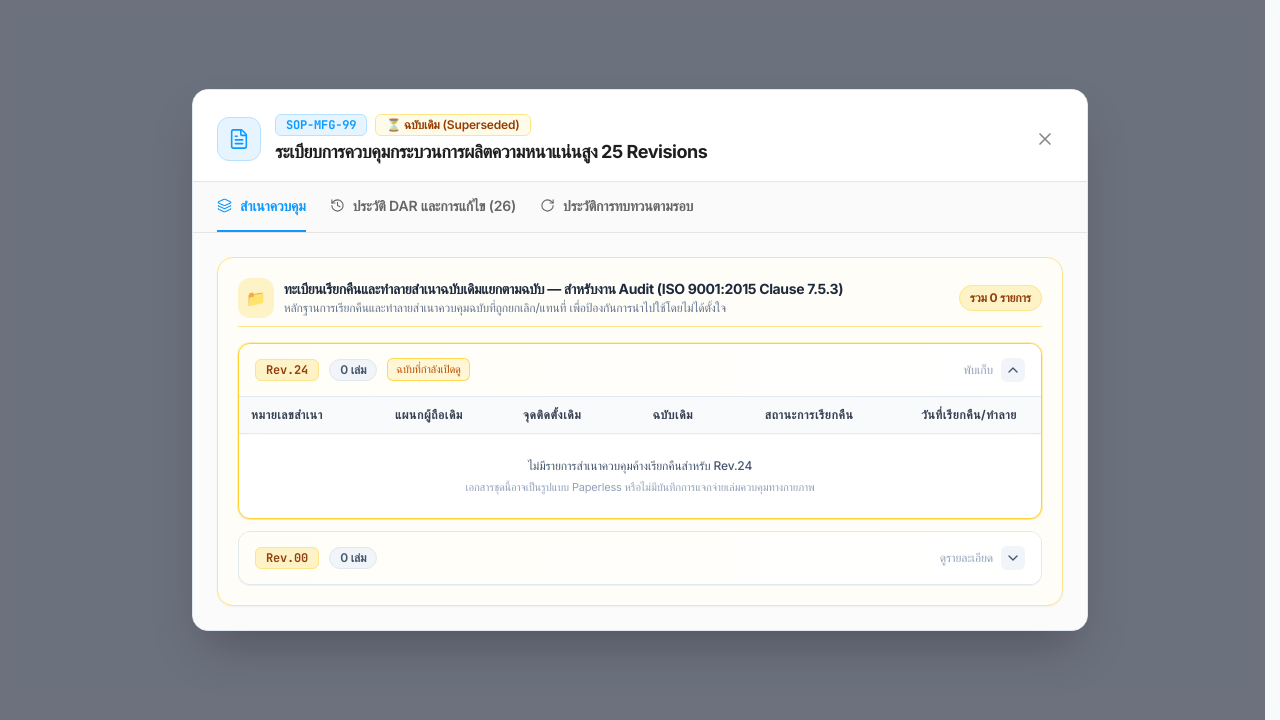
Unified Historical Revisions Vertical Accordion Timeline Test Suite › 4. Seamlessly handles large revision history (25+ Revisions) without layout failure
What coordinates should you click on to do the following:
click the button "ประวัติ DAR และการแก้ไข (26)"
I would click on:
 (423, 206)
Its box is top-left (330, 182), bottom-right (516, 232).
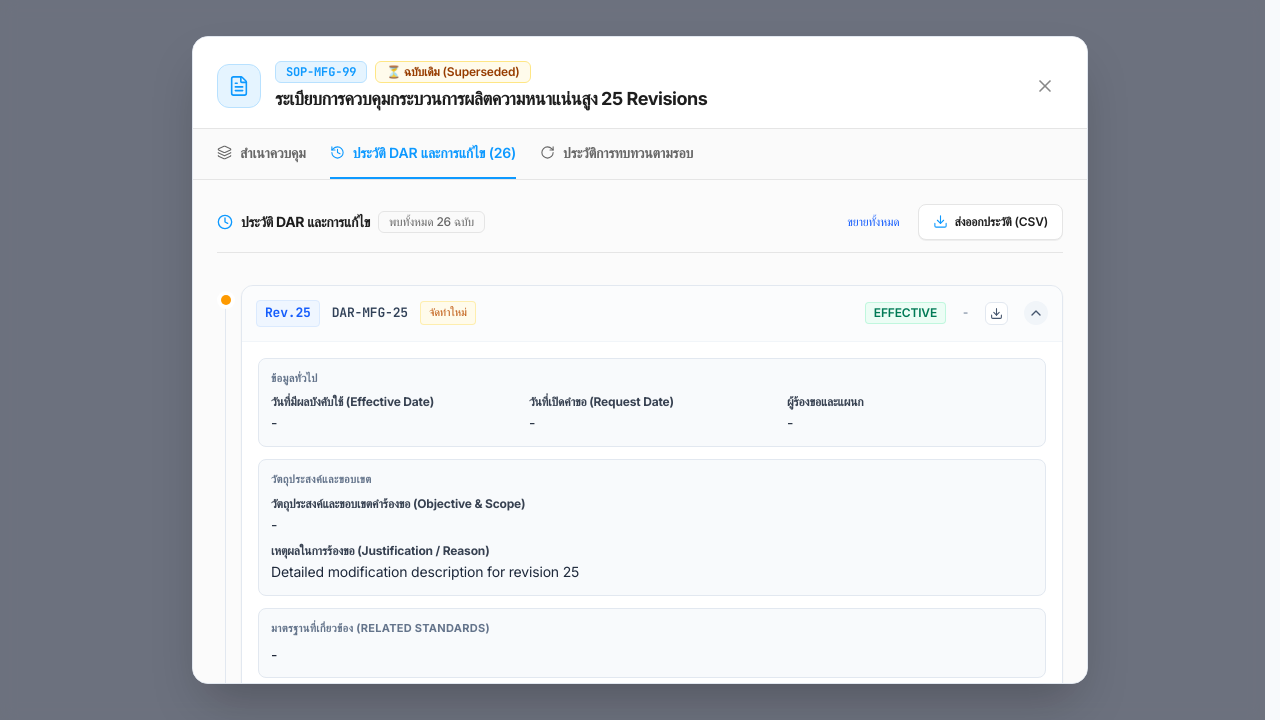
Expected: the text "พบทั้งหมด 26 ฉบับ" is shown, top-left (378, 211), bottom-right (485, 233)
# Expand all 25 items
What coordinates should you click on to do the following:
click the button "ขยายทั้งหมด"
I would click on:
 (873, 222)
Its box is top-left (836, 207), bottom-right (910, 237).
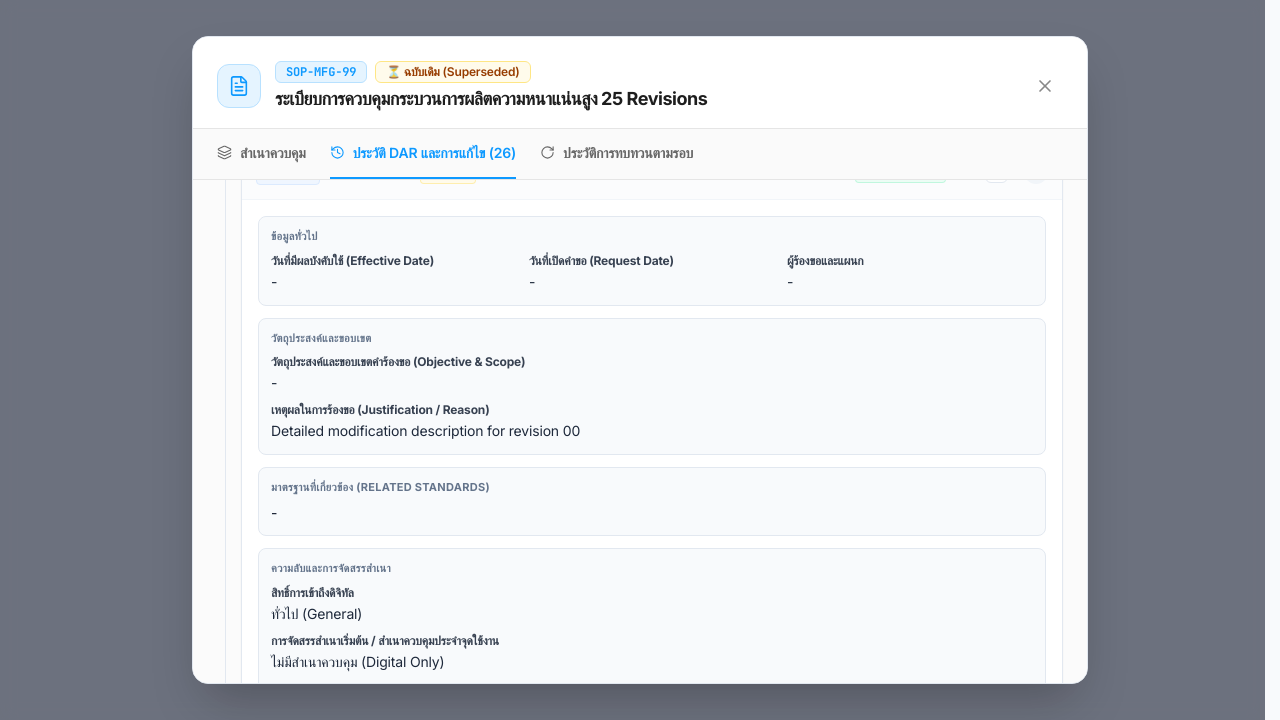
Expected: the text "Detailed modification description for revision 00" is shown, top-left (271, 422), bottom-right (580, 439)
